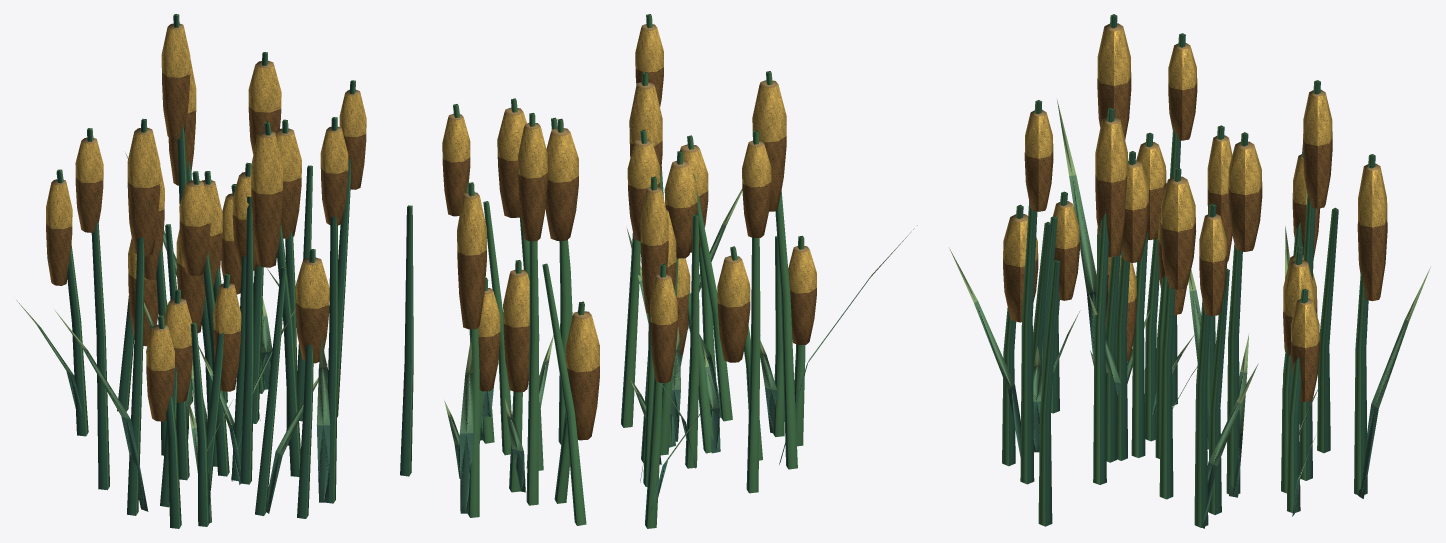
File: Wetland_02_Totora_Low.glb
The picture shows the model from 3 angles, left to right: view 1: azimuth 30°, elevation 25°; view 2: azimuth 150°, elevation 25°; view 3: azimuth 270°, elevation 25°; orthographic projection. The views are drawn at different scales.
Visible parts, largest first — view 1: Wetland_02_Totora_Low; view 2: Wetland_02_Totora_Low; view 3: Wetland_02_Totora_Low.
Part boxes in pixels (x1,y1,x2,y2): Wetland_02_Totora_Low: [16, 14, 413, 528]; Wetland_02_Totora_Low: [442, 14, 917, 528]; Wetland_02_Totora_Low: [949, 14, 1430, 528].
Bounding box in the file's own units: 1.61 × 1.52 × 1.69.
2 materials, 1 textured.
